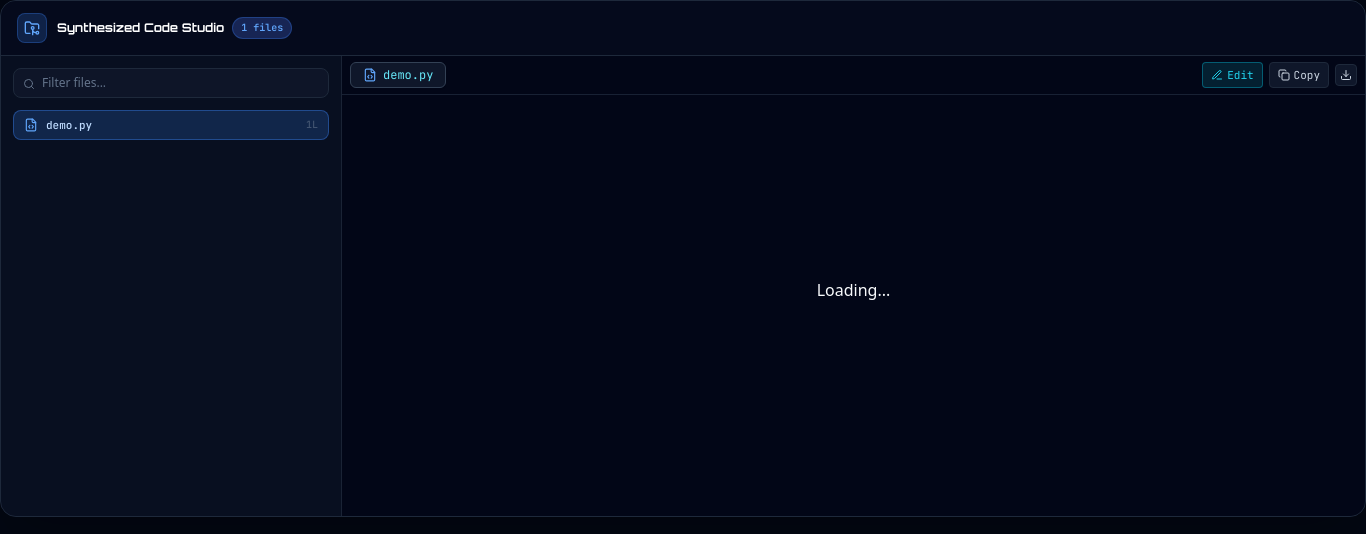
Test case: Milestone 4 UI Components Challenger Empirical Stress Suite › Suite 1: CodeWorkspace High-Load & Edge Cases › 1.7: View vs Edit mode toggling switches state and readOnly enforcement
Expected: the text "Edit" is shown, [1227,67,1254,83]
Step 1. Click the button titled "Switch to" → {"x": 1232, "y": 75}, box [1202,62,1263,88]
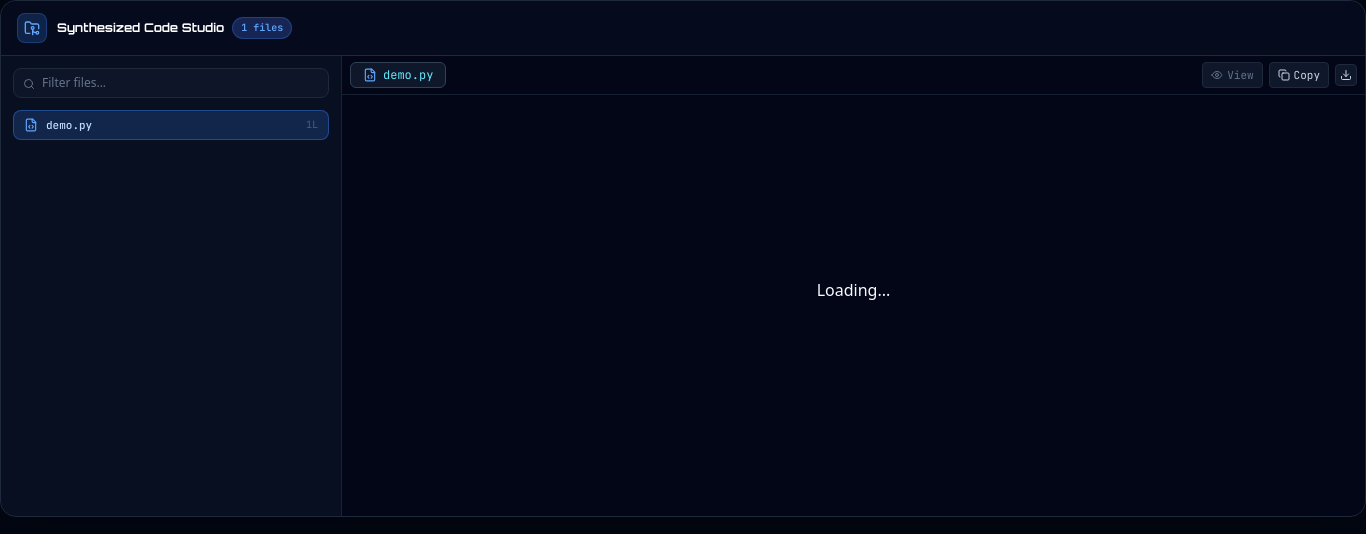
Result: the text "View" is shown at [1227,67,1254,83]
Step 2. Click the button titled "Switch to" → {"x": 1232, "y": 75}, box [1202,62,1263,88]
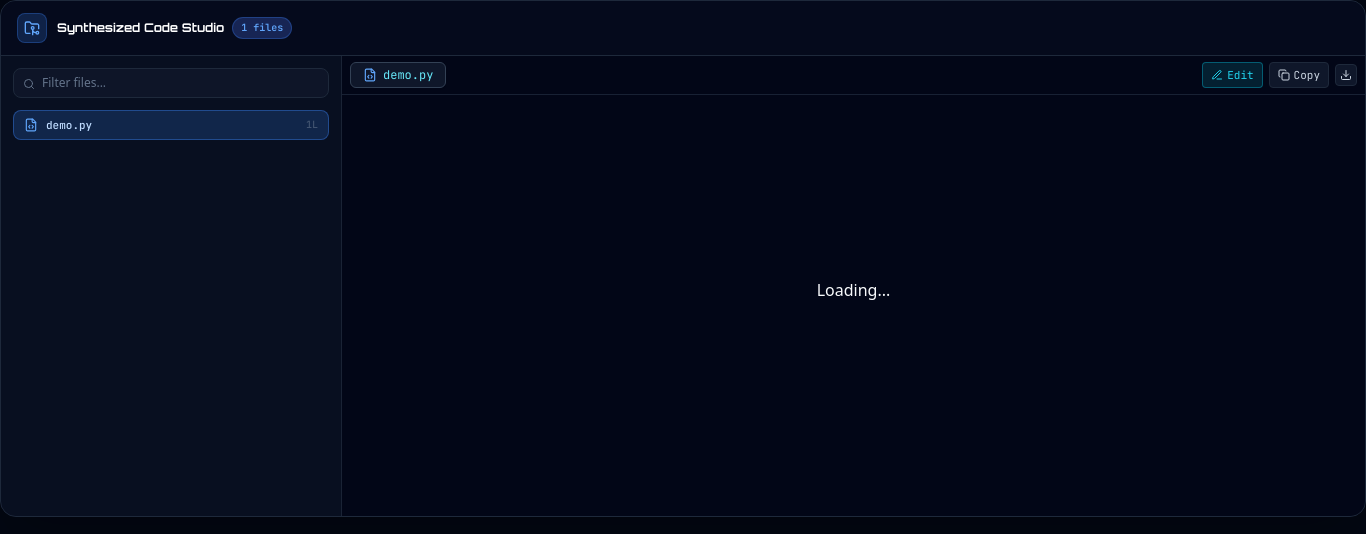
Result: the text "Edit" is shown at [1227,67,1254,83]
